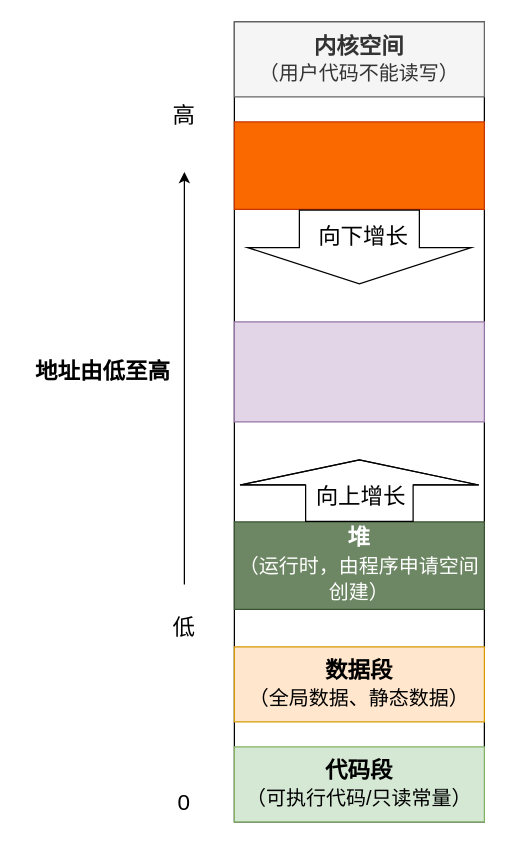
Image size: 506x844. Some labels were removed from this diagram. Each missing label, with the box of its shape:
内存映射段 （文件映射、动态库、匿名映射）: (233, 321, 484, 422)
栈 （运行时创建）: (233, 121, 484, 209)
